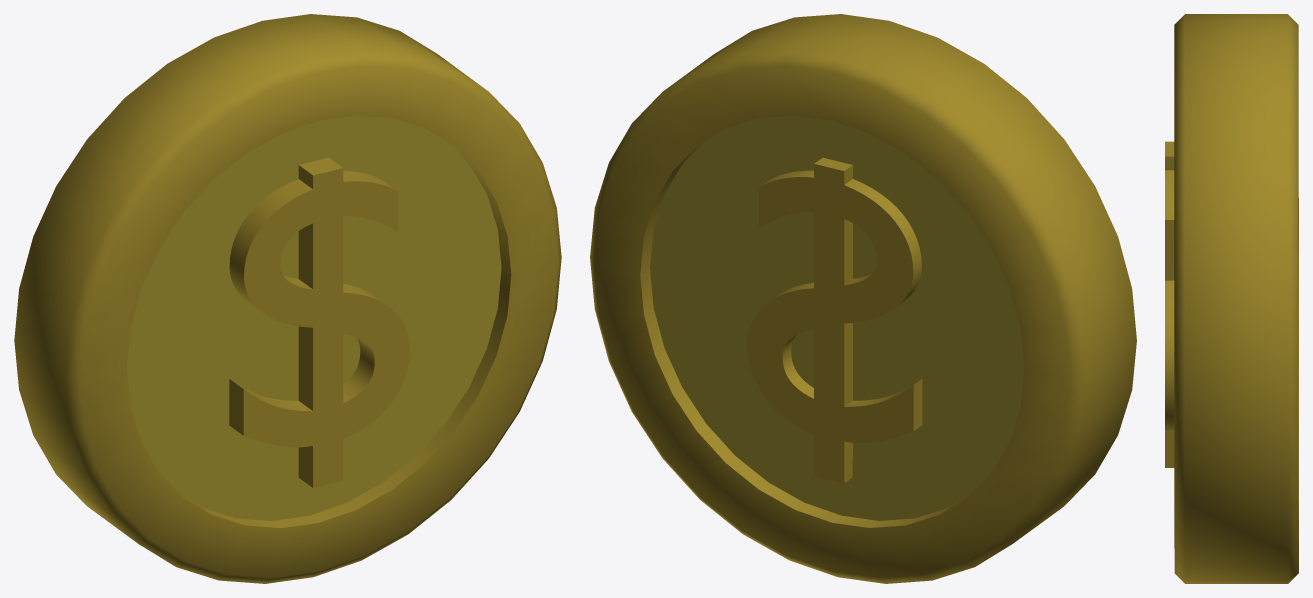
File: Coin_Dollar.fbx
3 renders of one model, left to right at view 1: azimuth 30°, elevation 25°; view 2: azimuth 150°, elevation 25°; view 3: azimuth 270°, elevation 25°, orthographic.
Visible parts, largest first — view 1: Coin_Dollar; view 2: Coin_Dollar; view 3: Coin_Dollar.
Boxes of the visible parts, x1,y1,x2,y2 form: Coin_Dollar: (14,14,561,583); Coin_Dollar: (590,14,1136,583); Coin_Dollar: (1165,14,1298,583).
Bounding box in the file's own units: 56.41 × 56.41 × 13.24.
